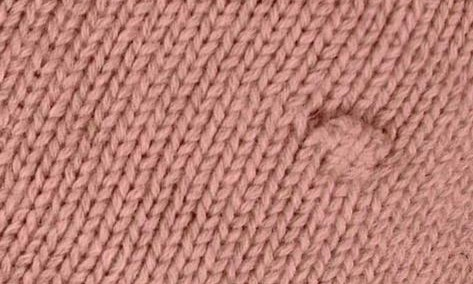knot: (306, 110, 397, 177)
